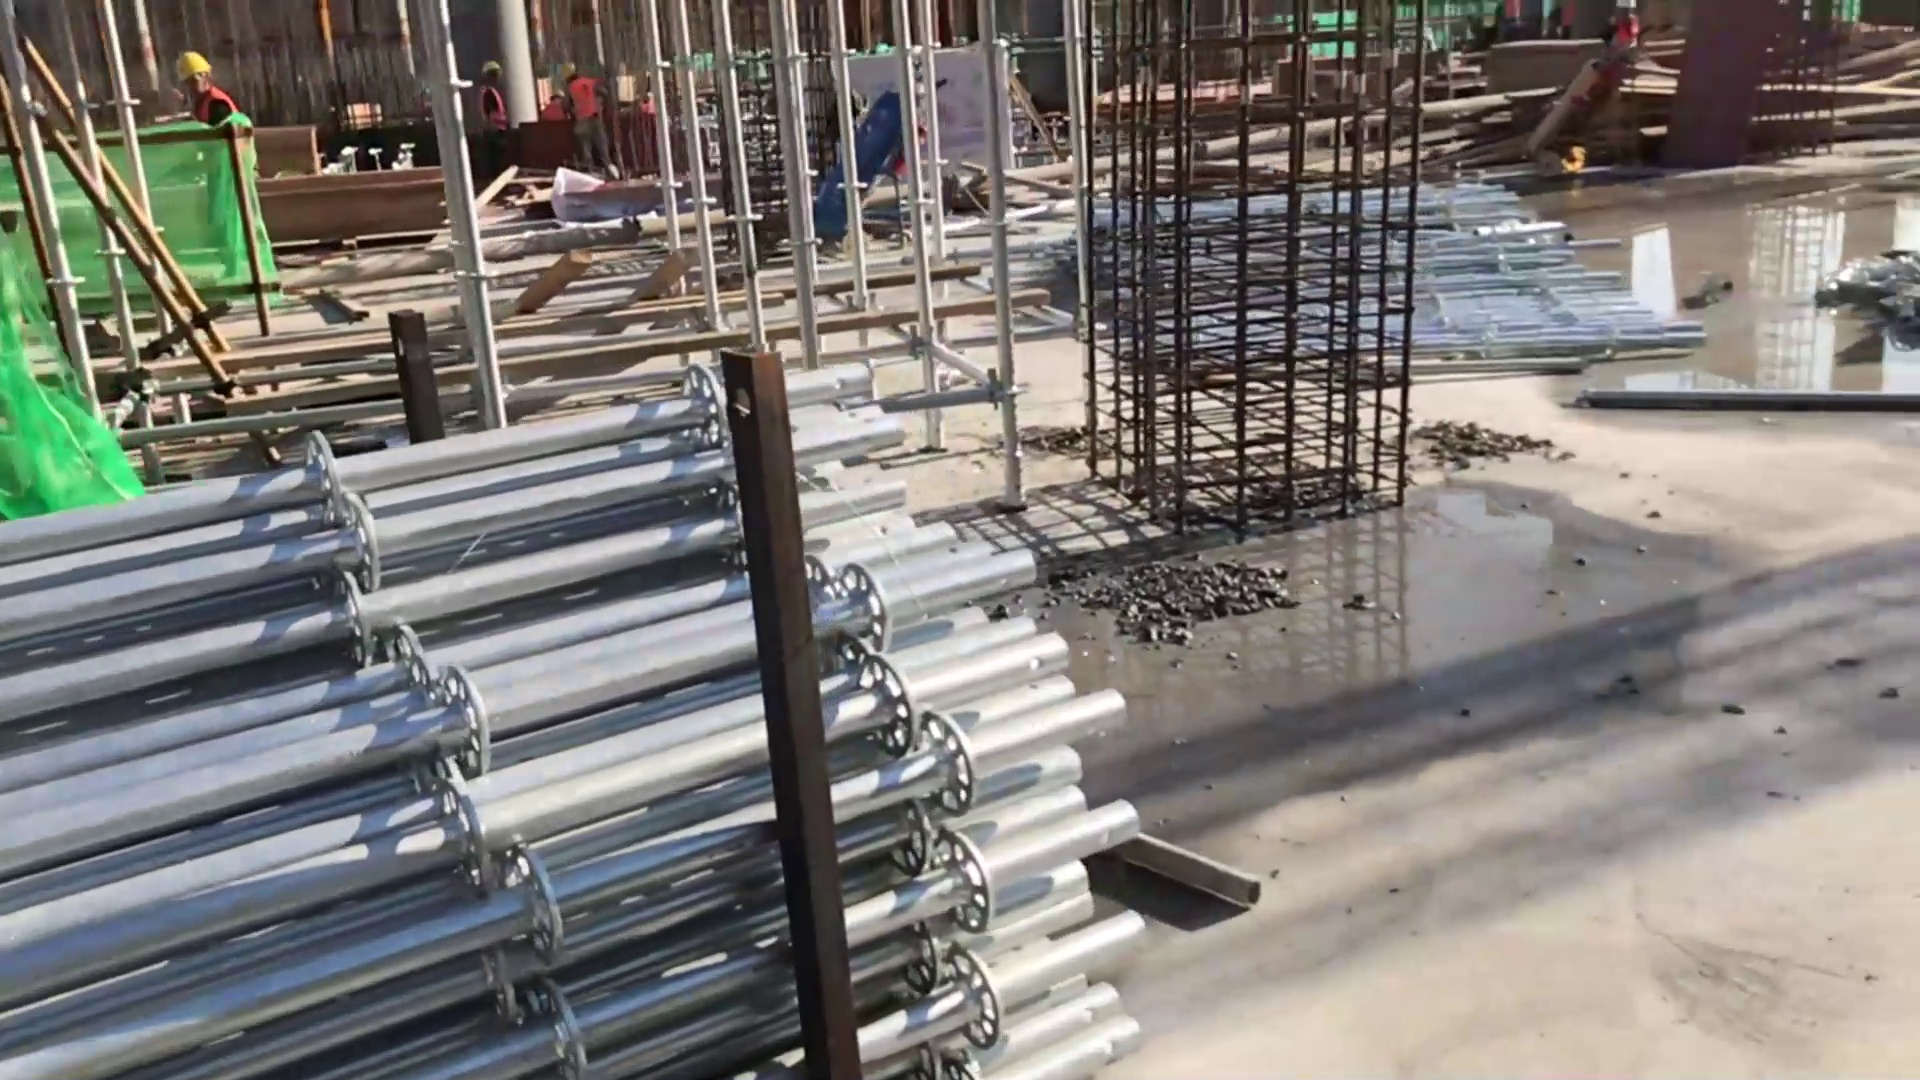person: (550, 56, 615, 183), (170, 51, 244, 130), (473, 47, 516, 176)
scaffold: (1, 351, 1164, 1080), (1408, 180, 1690, 372)
